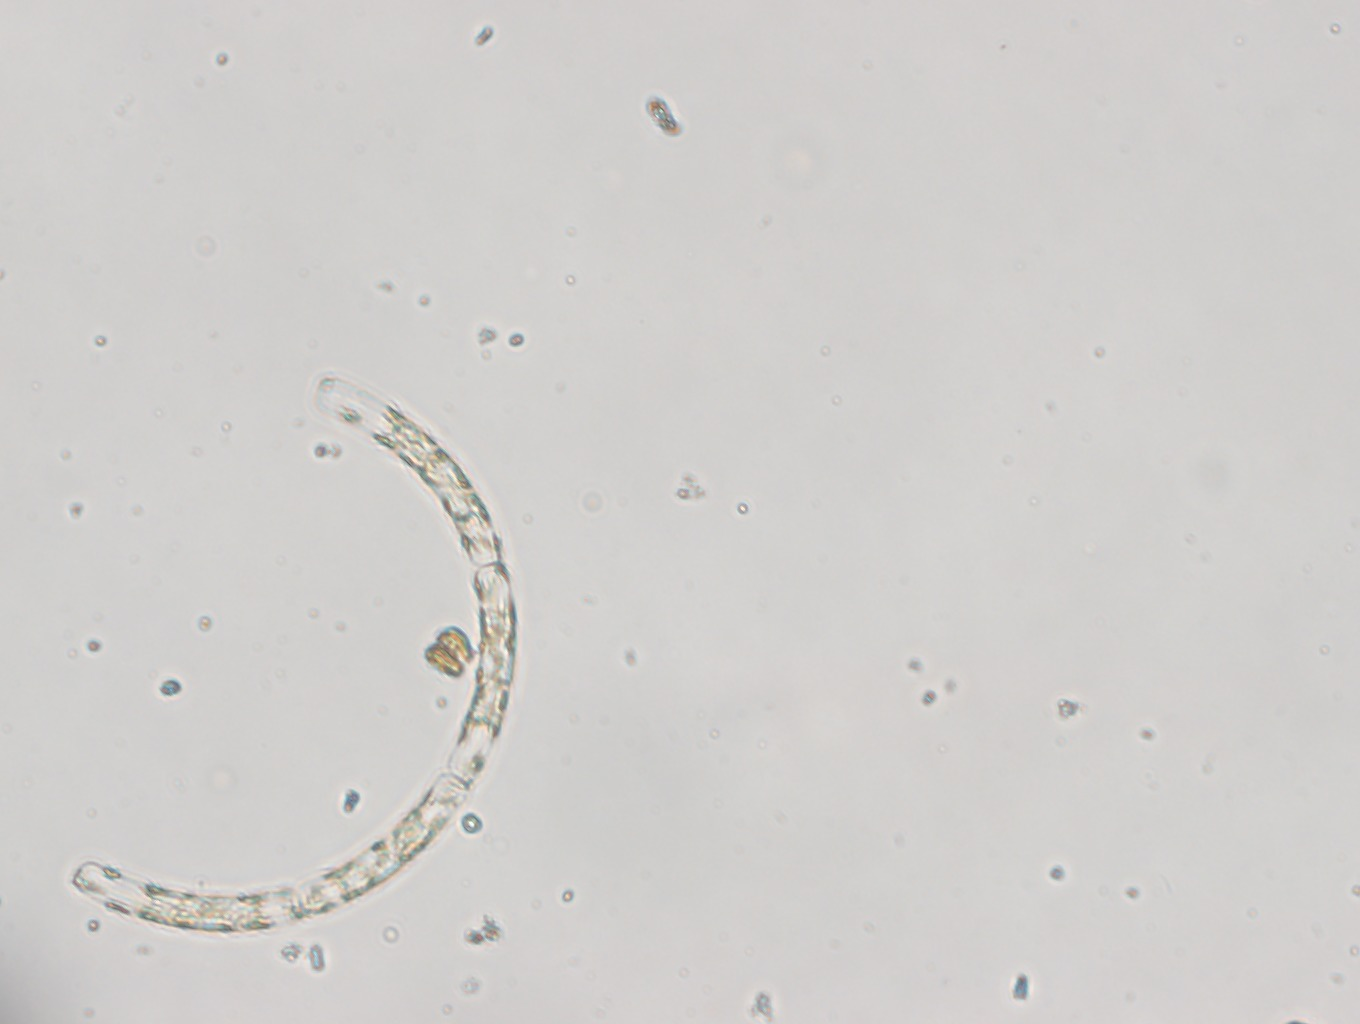eucampia: (69, 361, 528, 942)
